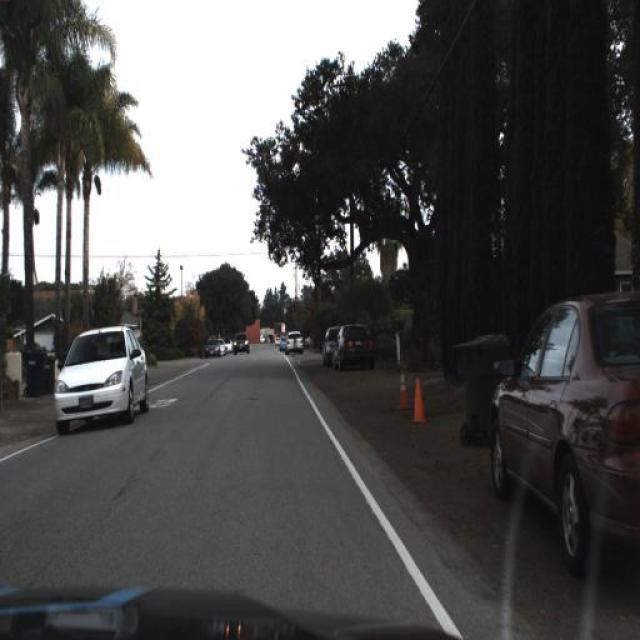car: (487, 285, 640, 583), (49, 323, 149, 433), (53, 322, 151, 431), (331, 322, 375, 372), (230, 328, 252, 360), (284, 328, 306, 357)
